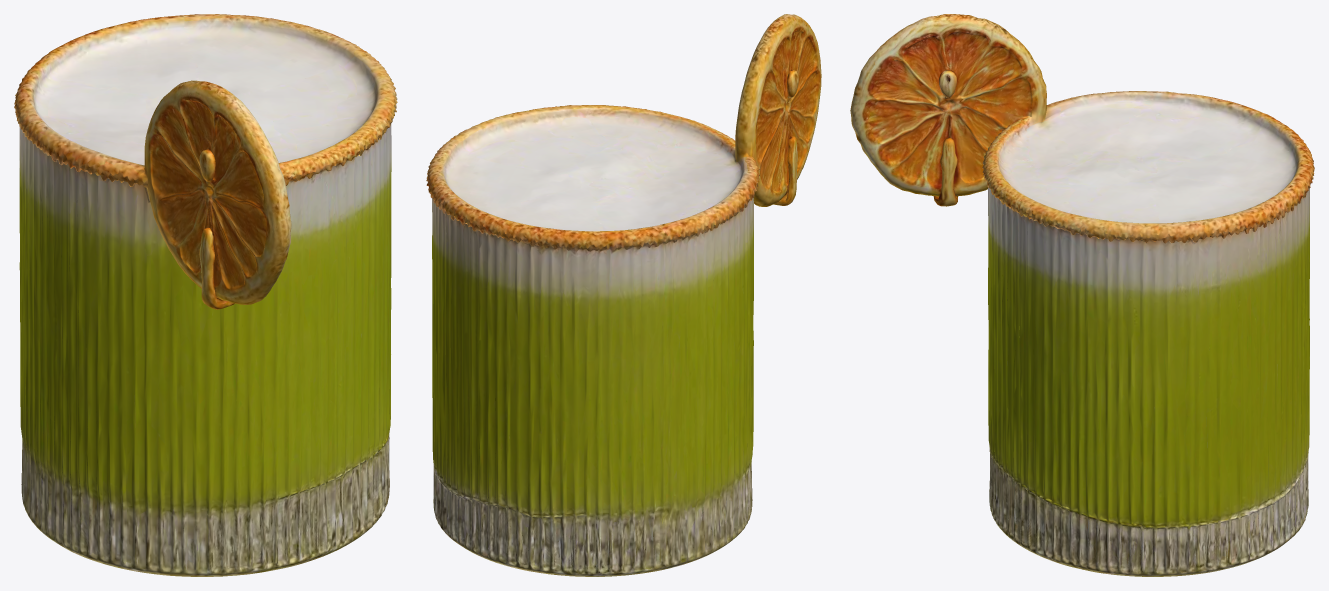
The model's file is modelo-07.glb.
The picture shows the model from 3 angles, left to right: view 1: azimuth 30°, elevation 25°; view 2: azimuth 150°, elevation 25°; view 3: azimuth 270°, elevation 25°; orthographic projection. The views are drawn at different scales.
Parts seen in each view (by area): view 1: tripo_node_750aa8b2-3b91-405f-879e-4bd90b0ff6cd; view 2: tripo_node_750aa8b2-3b91-405f-879e-4bd90b0ff6cd; view 3: tripo_node_750aa8b2-3b91-405f-879e-4bd90b0ff6cd.
Boxes of the visible parts, left/top/right/bottom form: tripo_node_750aa8b2-3b91-405f-879e-4bd90b0ff6cd: left=14, top=14, right=397, bottom=576; tripo_node_750aa8b2-3b91-405f-879e-4bd90b0ff6cd: left=426, top=14, right=821, bottom=576; tripo_node_750aa8b2-3b91-405f-879e-4bd90b0ff6cd: left=850, top=14, right=1314, bottom=576.
Size of the model in its own units: 0.6569 by 0.9792 by 0.9078.
Materials: 1 (1 with a texture image).
